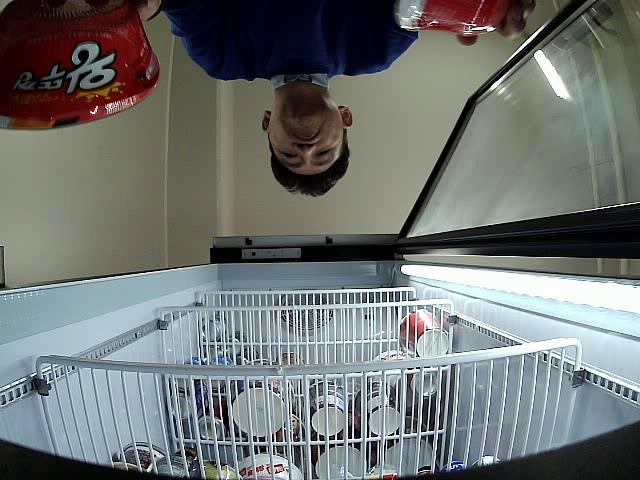00_hand: (457, 0, 535, 45)
10_wangTtukkeong: (0, 0, 159, 131), (399, 0, 511, 32)
